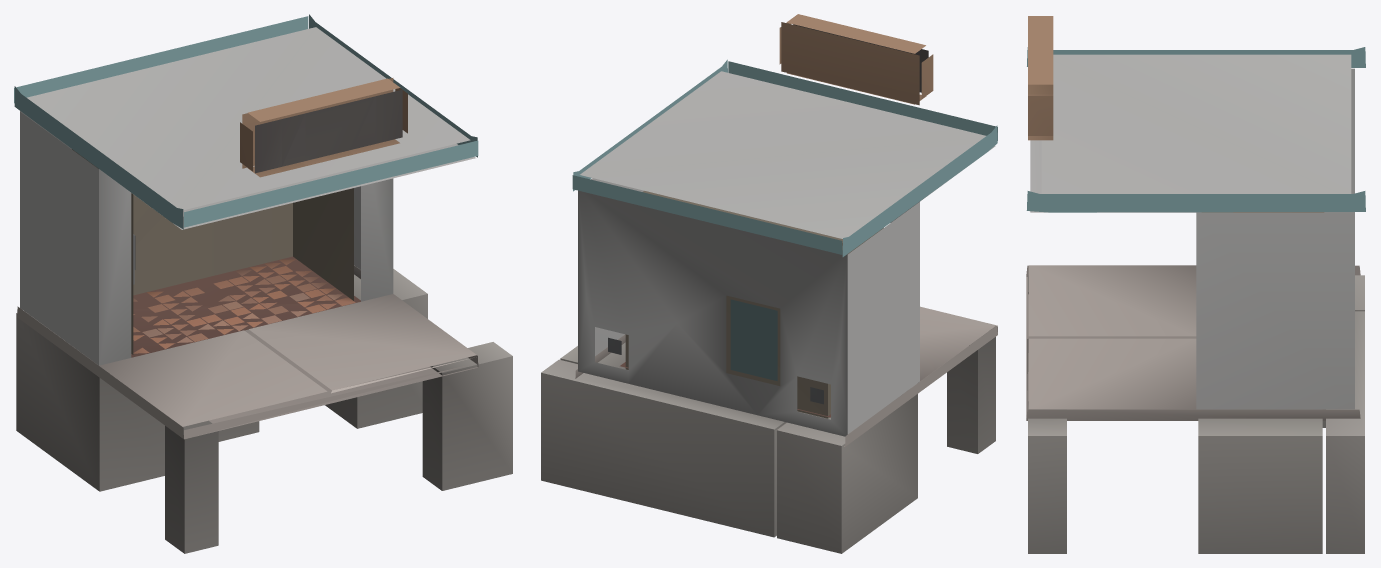
The model's file is vending.lod.glb.
The picture shows the model from 3 angles, left to right: view 1: azimuth 30°, elevation 25°; view 2: azimuth 150°, elevation 25°; view 3: azimuth 270°, elevation 25°; orthographic projection. The views are drawn at different scales.
Parts seen in each view (by area): view 1: vending; view 2: vending; view 3: vending.
Part boxes in pixels (left/top/right/bottom): vending: left=14, top=14, right=512, bottom=553; vending: left=541, top=14, right=997, bottom=553; vending: left=1026, top=16, right=1365, bottom=553.
Size of the model in its own units: 4.48 by 5.37 by 4.
